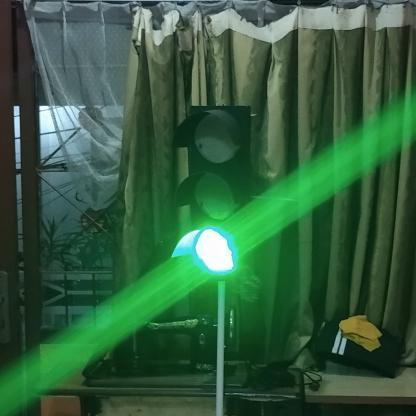green: (173, 109, 250, 279)
